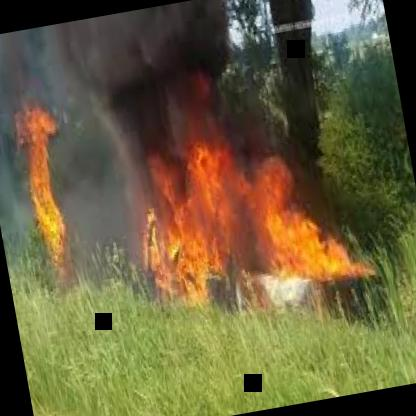fire: (57, 1, 358, 314)
